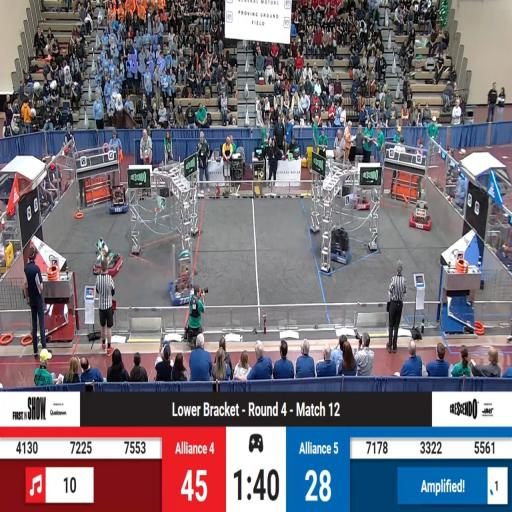robot: (170, 246, 196, 304), (93, 238, 124, 275), (330, 228, 351, 264), (108, 182, 130, 214), (410, 203, 432, 231), (353, 192, 370, 211)
